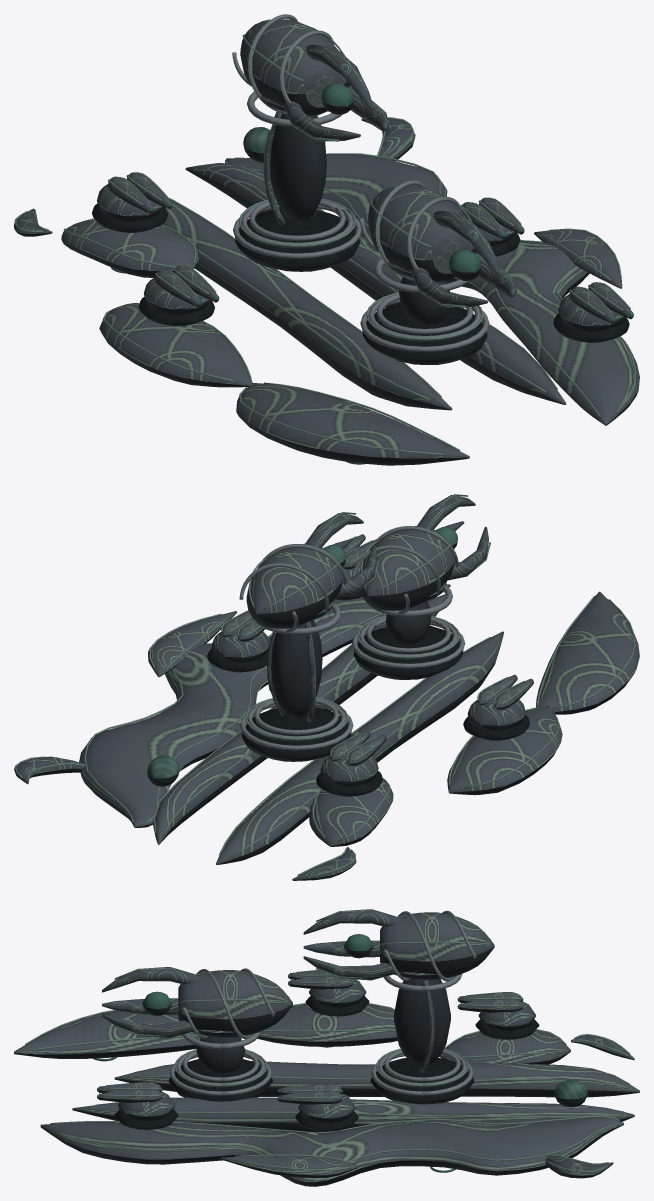
Rendered from GGA0402_source.obj.
3 views of the same model, one above another, from view 1: azimuth 30°, elevation 25°; view 2: azimuth 150°, elevation 25°; view 3: azimuth 270°, elevation 25° (orthographic). The views are drawn at different scales.
Parts seen in each view (by area): view 1: GGA0402, ForeLeftShard, MainAftPitch, MainForePitch, PortIsland, PortAftIsland, StarboardTip, AA4Pitch, AA1Pitch, AA2Pitch, AA3Pitch, AA1Yaw (+5 smaller); view 2: GGA0402, MainAftPitch, MainForePitch, ForeLeftShard, PortIsland, PortAftIsland, StarboardTip, AA2Yaw, AA3Yaw, AA4Yaw, AA4Pitch, AA2Pitch (+5 smaller); view 3: GGA0402, MainForePitch, MainAftPitch, ForeLeftShard, PortIsland, PortAftIsland, StarboardTip, AA4Pitch, AA1Pitch, AA3Pitch, AA1Yaw, AA3Yaw (+6 smaller).
Part boxes in pixels (box(x1,y1,x2,y2)): GGA0402: box(160, 111, 639, 425); ForeLeftShard: box(236, 382, 469, 465); MainAftPitch: box(232, 14, 391, 141); MainForePitch: box(359, 180, 518, 307); PortIsland: box(99, 297, 252, 387); PortAftIsland: box(14, 203, 198, 277); StarboardTip: box(534, 228, 622, 288); AA4Pitch: box(108, 172, 172, 213); AA1Pitch: box(569, 282, 633, 323); AA2Pitch: box(155, 265, 219, 306); AA3Pitch: box(460, 197, 524, 239); AA1Yaw: box(558, 294, 623, 331); GGA0402: box(14, 584, 503, 864); MainAftPitch: box(239, 512, 378, 632); MainForePitch: box(351, 494, 490, 614); ForeLeftShard: box(536, 591, 639, 714); PortIsland: box(447, 705, 562, 795); PortAftIsland: box(292, 771, 393, 880); StarboardTip: box(148, 611, 237, 677); AA2Yaw: box(467, 700, 525, 730); AA3Yaw: box(211, 631, 269, 662); AA4Yaw: box(320, 755, 378, 786); AA4Pitch: box(330, 730, 386, 765); AA2Pitch: box(477, 674, 533, 709); GGA0402: box(40, 978, 639, 1186); MainForePitch: box(102, 967, 292, 1039); MainAftPitch: box(303, 909, 494, 981); ForeLeftShard: box(14, 1010, 200, 1061); PortIsland: box(257, 996, 397, 1047); PortAftIsland: box(439, 1019, 634, 1064); StarboardTip: box(221, 1154, 358, 1177); AA4Pitch: box(457, 992, 523, 1012); AA1Pitch: box(97, 1082, 162, 1102); AA3Pitch: box(277, 1084, 342, 1104); AA1Yaw: box(118, 1091, 175, 1120); AA3Yaw: box(298, 1093, 355, 1122).
Bounding box in the file's own units: 39.51 × 21.45 × 59.
Materials: 1 (1 with a texture image).
